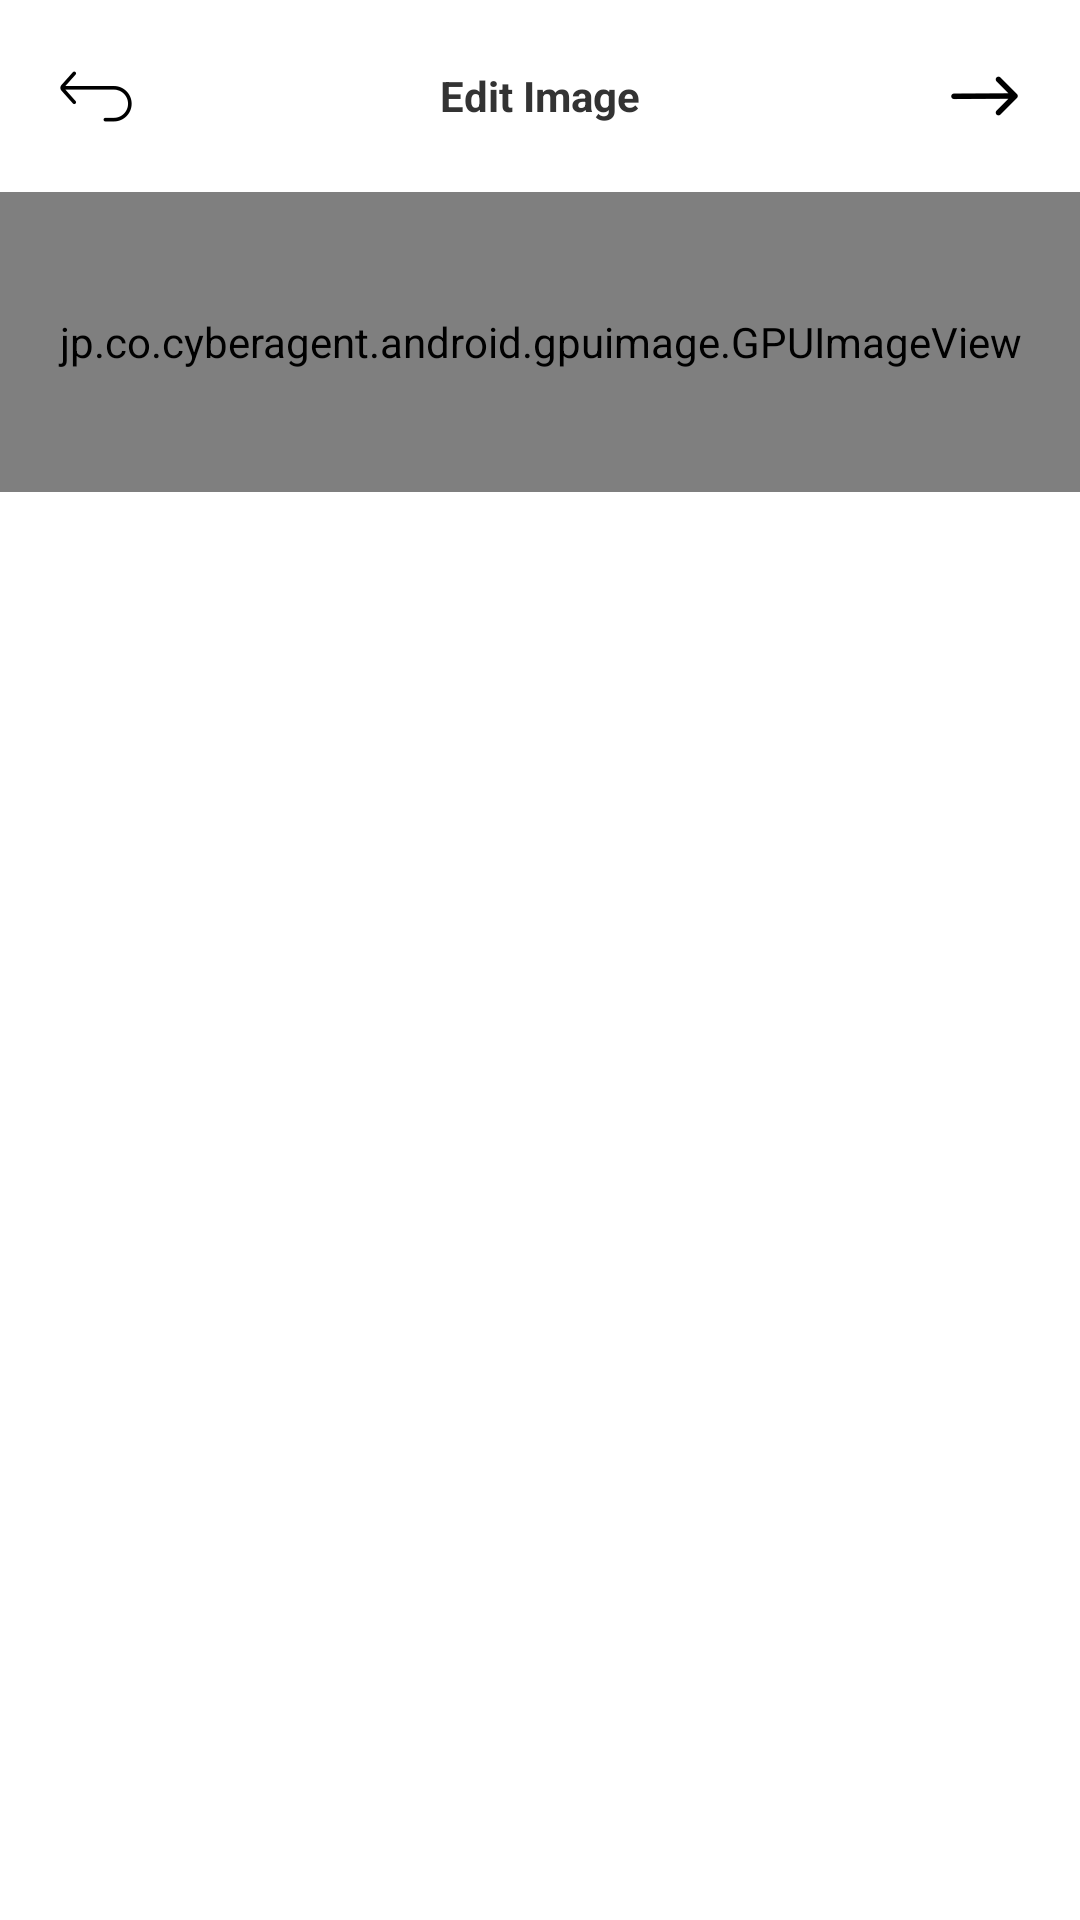

Named icons in this screenshot (1080*1920) and their bounding boxes, BBox(x1, y1, x2, y2):
back butt: BBox(60, 71, 132, 122)
next butt: BBox(951, 76, 1018, 116)
